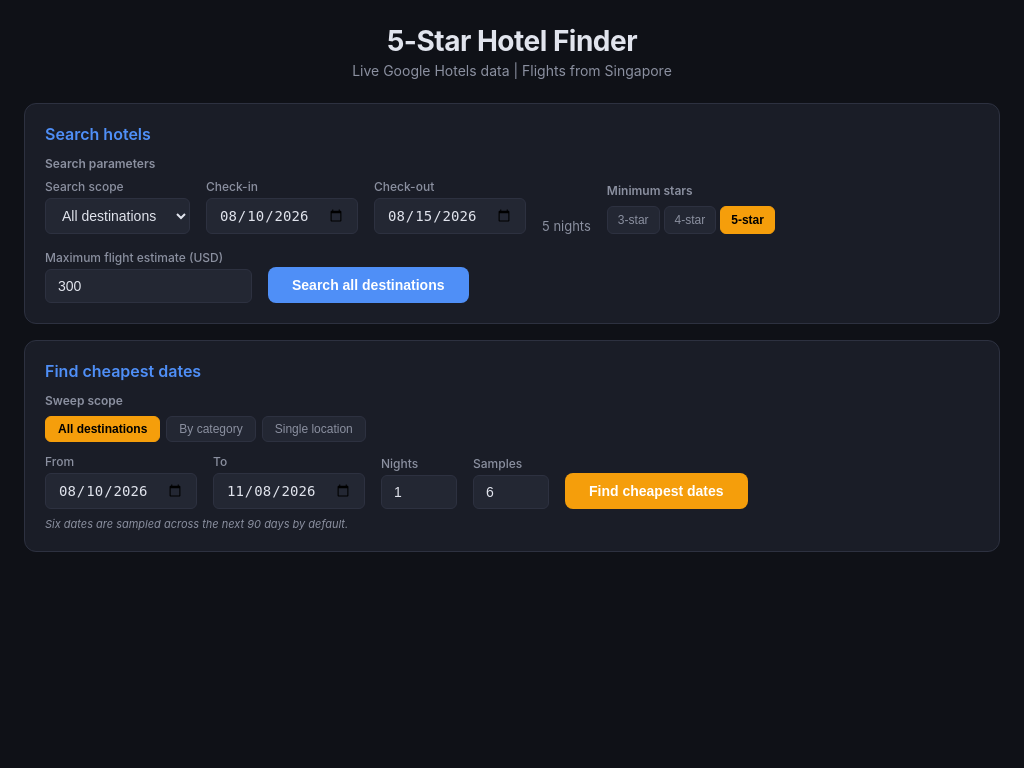
Test case: latest search and comparison ownership › preserves distinct failed hotels while deduplicating a mirrored warning by entity and source
The image size is (1024, 768).
Expected: the button "Find cheapest dates" is enabled, [565,473,748,509]
Click the button "Search all destinations" at (368, 285), box [268,267,468,303]
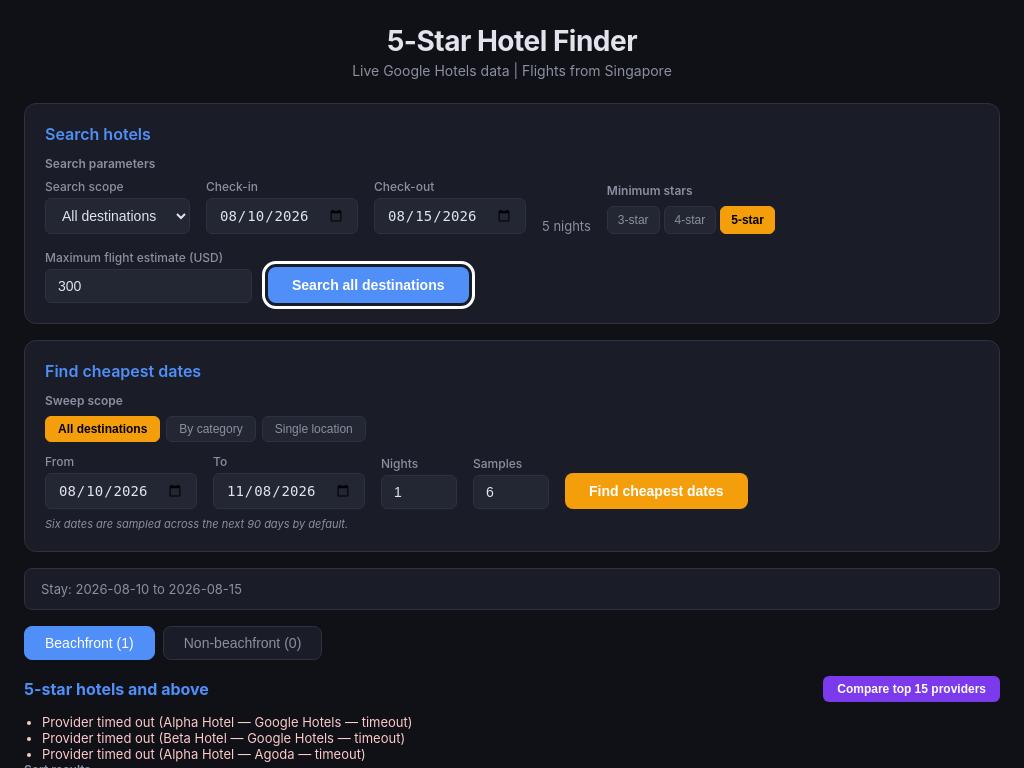
Expected: the number of list items is 3, [42,714,412,730]; [42,730,405,746]; [42,746,366,762]
Expected: the list named "Search warnings" shows "Alpha Hotel", [42,714,412,730]
Expected: the list named "Search warnings" shows "Beta Hotel", [42,730,405,746]
